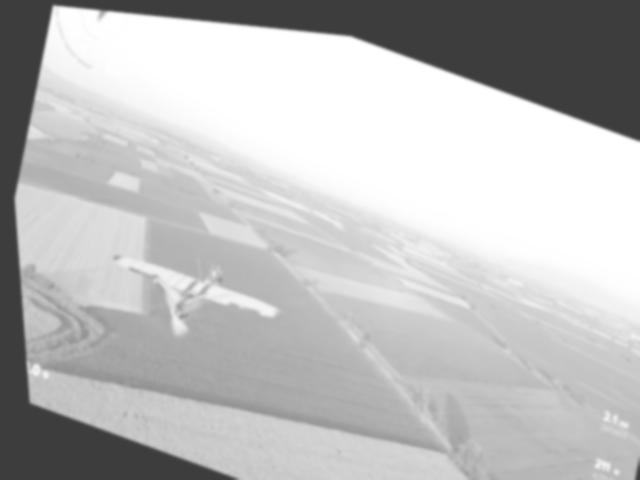hedef: (93, 226, 289, 374)
